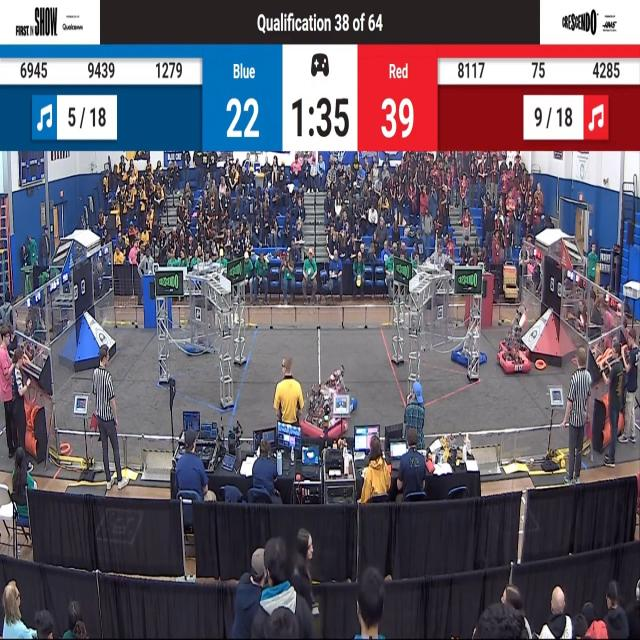Robot: (299, 379, 342, 442), (451, 310, 488, 371), (494, 317, 530, 379), (181, 297, 215, 360), (328, 361, 359, 421), (500, 309, 532, 358)
